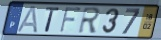3: (101, 7, 120, 35)
7: (120, 7, 142, 36)
A: (16, 5, 39, 34)
F: (58, 6, 83, 34)
R: (77, 6, 103, 35)
T: (44, 7, 61, 34)
